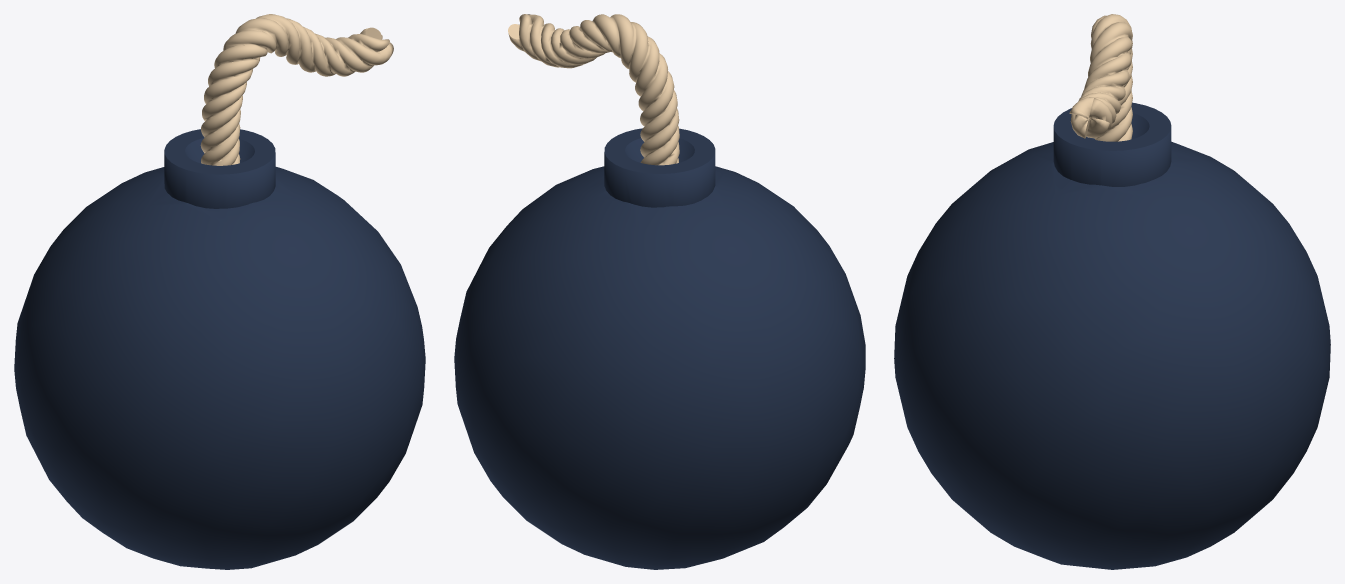
The model's file is bomb.gltf.
3 renders of one model, left to right at view 1: azimuth 30°, elevation 25°; view 2: azimuth 150°, elevation 25°; view 3: azimuth 270°, elevation 25°, orthographic. The views are drawn at different scales.
Parts seen in each view (by area): view 1: Body, Rope; view 2: Body, Rope; view 3: Body, Rope.
Part boxes in pixels (left/top/right/bottom): Body: left=14, top=129, right=425, bottom=569; Rope: left=200, top=14, right=393, bottom=165; Body: left=454, top=128, right=865, bottom=569; Rope: left=508, top=14, right=679, bottom=165; Body: left=894, top=102, right=1330, bottom=569; Rope: left=1069, top=14, right=1132, bottom=141.
Size of the model in its own units: 1 by 1.4 by 0.9999.
